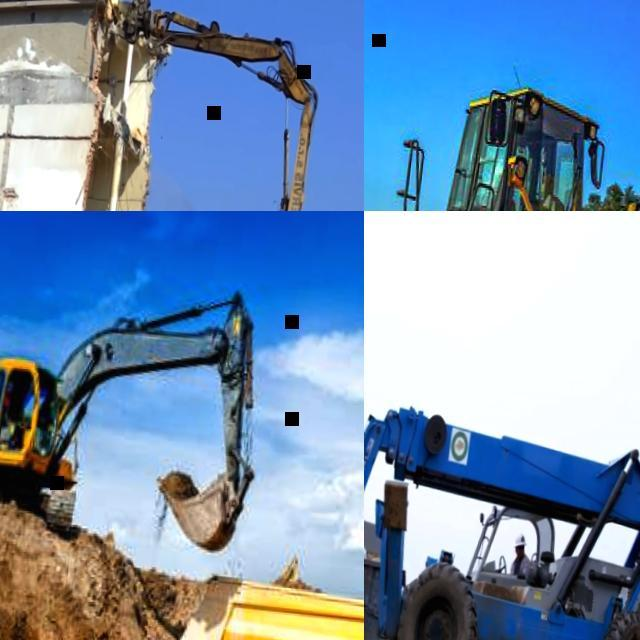helmet: (514, 530, 530, 547)
vest: (0, 390, 11, 412)
